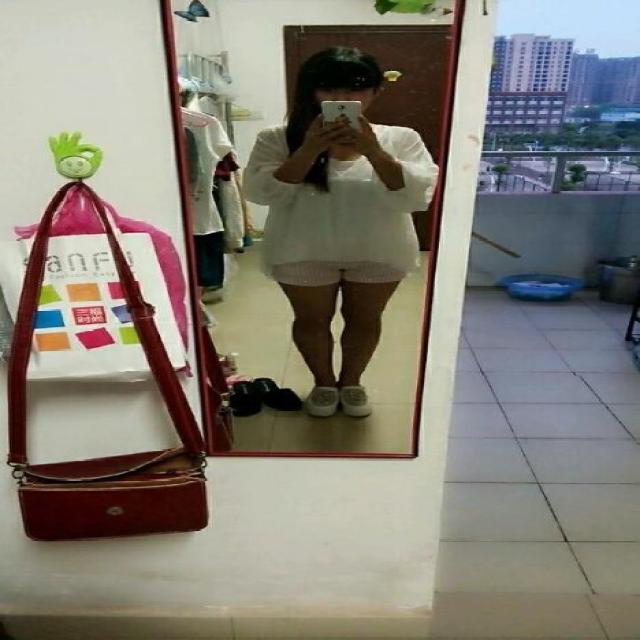long sleeve top: (243, 125, 436, 273)
